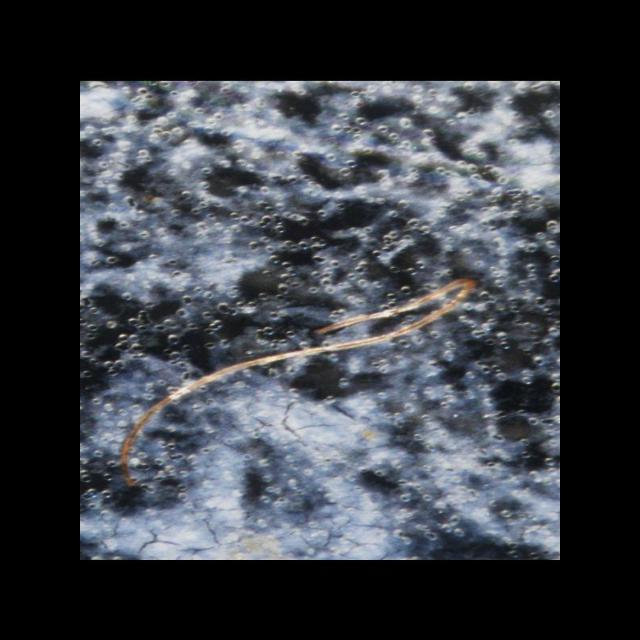Fibre: (117, 277, 480, 487)
